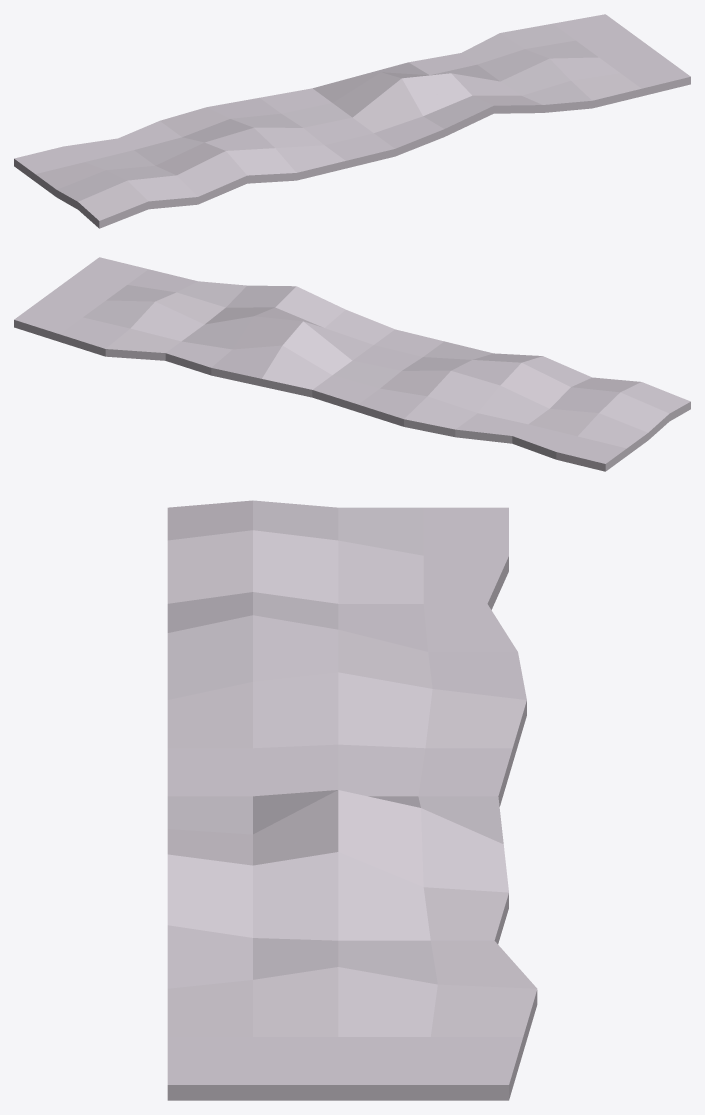
Rendered from snow_01_24x6.fbx.
3 renders of one model, top to bottom at view 1: azimuth 30°, elevation 25°; view 2: azimuth 150°, elevation 25°; view 3: azimuth 270°, elevation 25°, orthographic. The views are drawn at different scales.
Parts seen in each view (by area): view 1: Plane.013; view 2: Plane.013; view 3: Plane.013.
Part boxes in pixels (x1=…): Plane.013: x1=14, y1=14, x2=690, y2=228; Plane.013: x1=14, y1=257, x2=690, y2=471; Plane.013: x1=167, y1=500, x2=537, y2=1100.
Size of the model in its own units: 2400 by 136 by 650.
